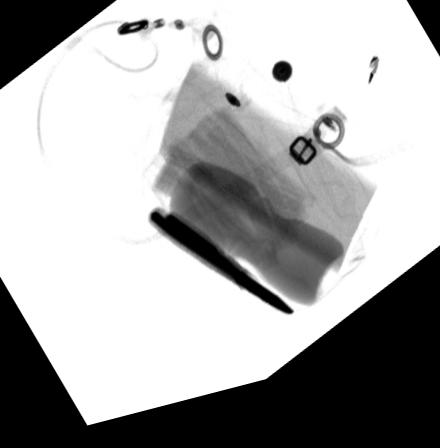Pliers: (147, 214, 296, 331)
